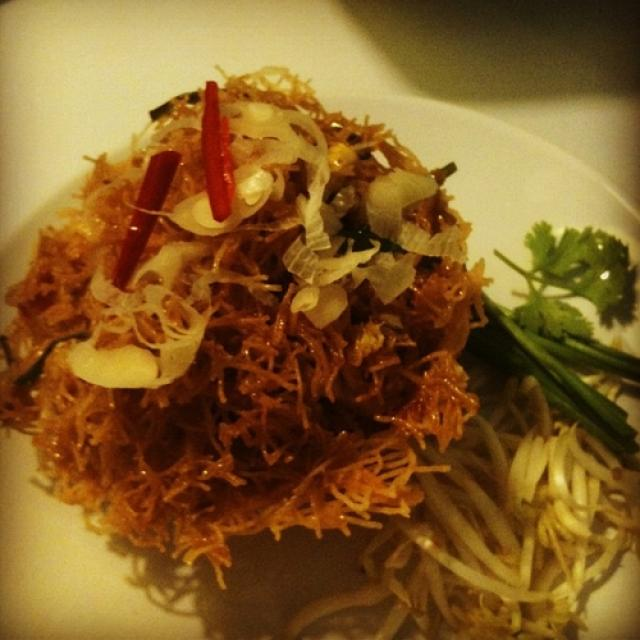面条主食: (19, 52, 621, 626)
